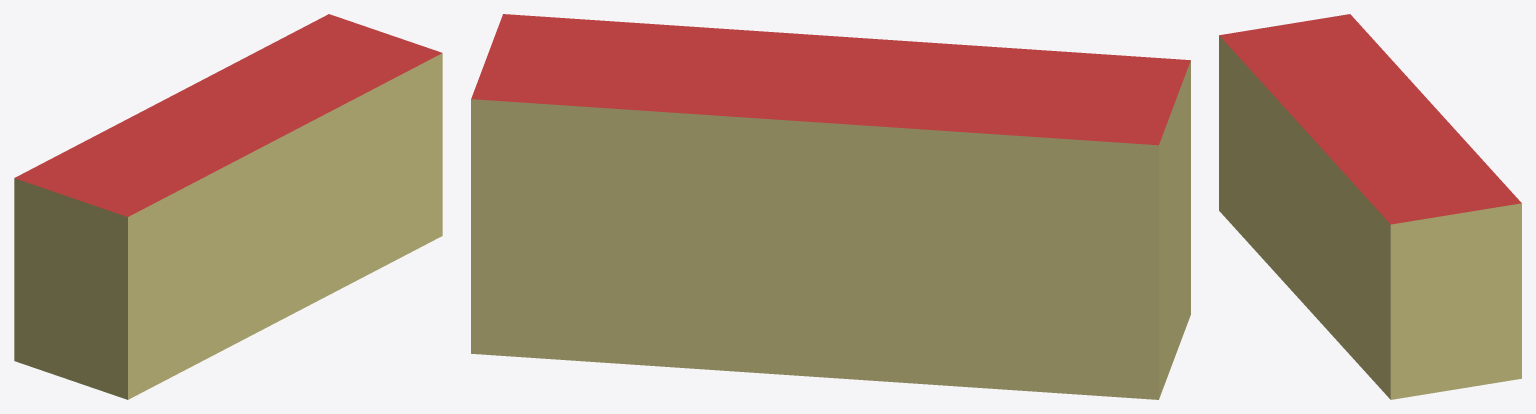
The picture shows the model from 3 angles, left to right: view 1: azimuth 30°, elevation 25°; view 2: azimuth 150°, elevation 25°; view 3: azimuth 270°, elevation 25°; orthographic projection. The views are drawn at different scales.
Parts seen in each view (by area): view 1: group_4, group_3; view 2: group_4, group_3; view 3: group_4, group_3.
Part boxes in pixels (x1,y1,x2,y2): group_4: (14,53,442,399); group_3: (14,14,441,216); group_4: (471,60,1190,399); group_3: (471,14,1190,145); group_4: (1219,35,1521,399); group_3: (1219,14,1521,224).
Bounding box in the file's own units: 16.74 × 10.18 × 6.5.
